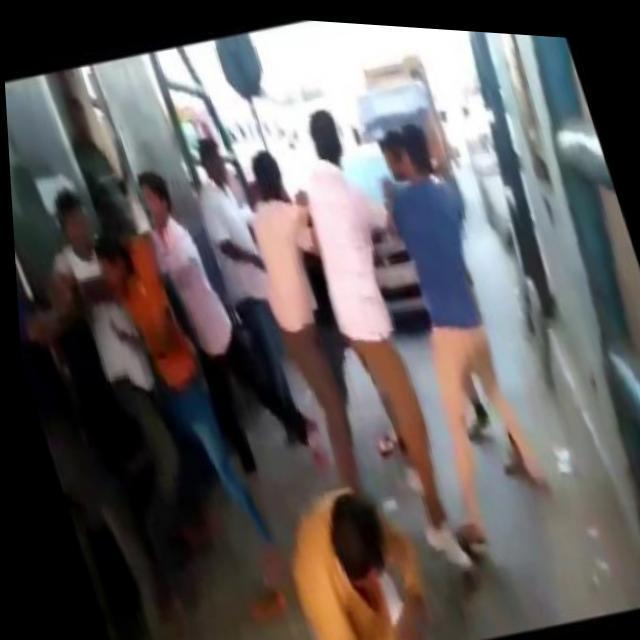fight: (39, 157, 290, 567)
